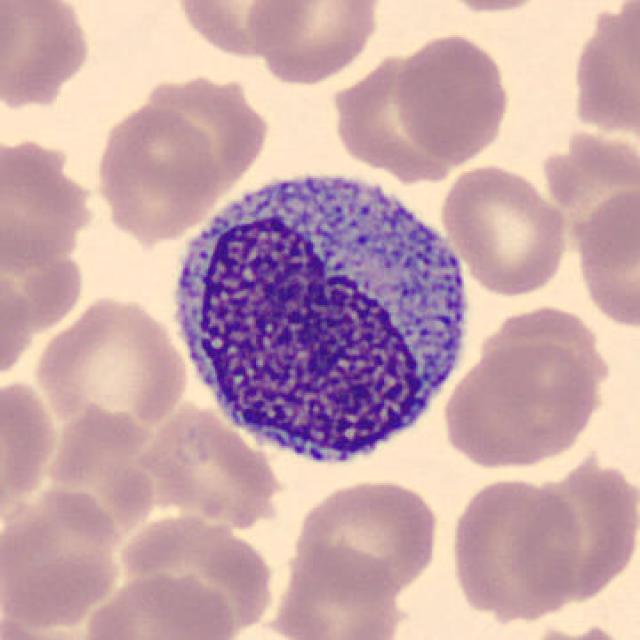Monocyte: (158, 155, 476, 483)
RBC: (439, 335, 605, 471), (502, 446, 636, 610), (108, 509, 281, 636), (30, 291, 190, 428), (445, 474, 583, 622), (288, 474, 443, 601), (0, 482, 128, 630), (437, 160, 571, 298), (90, 100, 220, 242), (391, 30, 514, 164), (0, 131, 91, 286), (266, 543, 411, 640), (245, 0, 387, 86), (82, 567, 240, 640), (570, 181, 640, 333), (0, 0, 94, 111), (0, 374, 59, 534), (169, 0, 318, 60), (568, 13, 640, 136), (0, 604, 110, 640), (521, 620, 635, 640), (427, 0, 560, 16)
